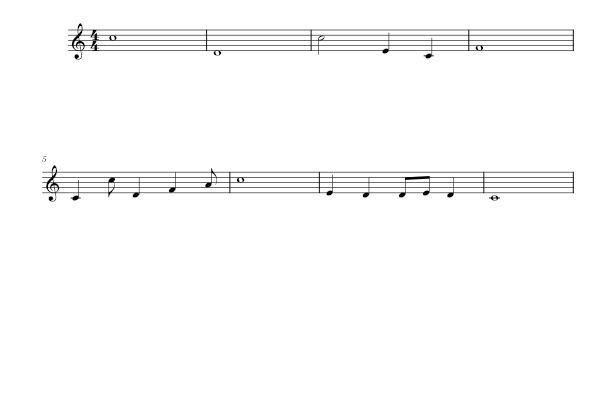Treble Clef: (68, 18, 89, 67), (42, 162, 63, 210)
